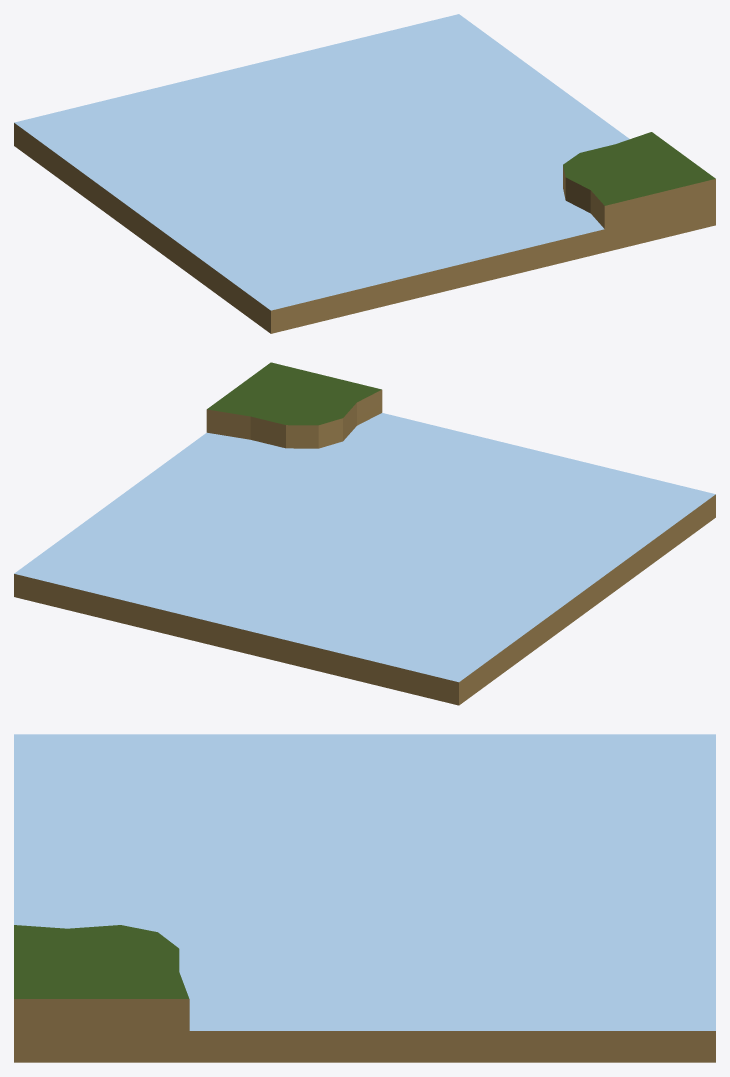
The model's file is Terrain_Modular_Tiles_Grass_Dirt_Water_Edge_Corner_Inner_02.fbx.
3 views of the same model, one above another, from view 1: azimuth 30°, elevation 25°; view 2: azimuth 150°, elevation 25°; view 3: azimuth 270°, elevation 25° (orthographic). The views are drawn at different scales.
Visible parts, largest first — view 1: Terrain_Modular_Tiles_Grass_Dirt_Water_Edge_Corner_Inner_02; view 2: Terrain_Modular_Tiles_Grass_Dirt_Water_Edge_Corner_Inner_02; view 3: Terrain_Modular_Tiles_Grass_Dirt_Water_Edge_Corner_Inner_02.
Part boxes in pixels (x1,y1,x2,y2): Terrain_Modular_Tiles_Grass_Dirt_Water_Edge_Corner_Inner_02: (14, 14, 715, 333); Terrain_Modular_Tiles_Grass_Dirt_Water_Edge_Corner_Inner_02: (14, 362, 715, 705); Terrain_Modular_Tiles_Grass_Dirt_Water_Edge_Corner_Inner_02: (14, 734, 715, 1062).
Bounding box in the file's own units: 3000 × 300 × 3000.
